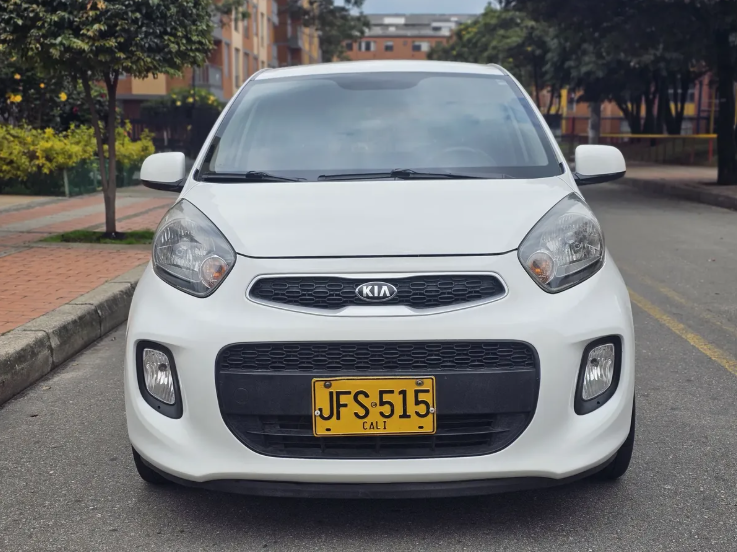placa: (313, 380, 436, 436)
